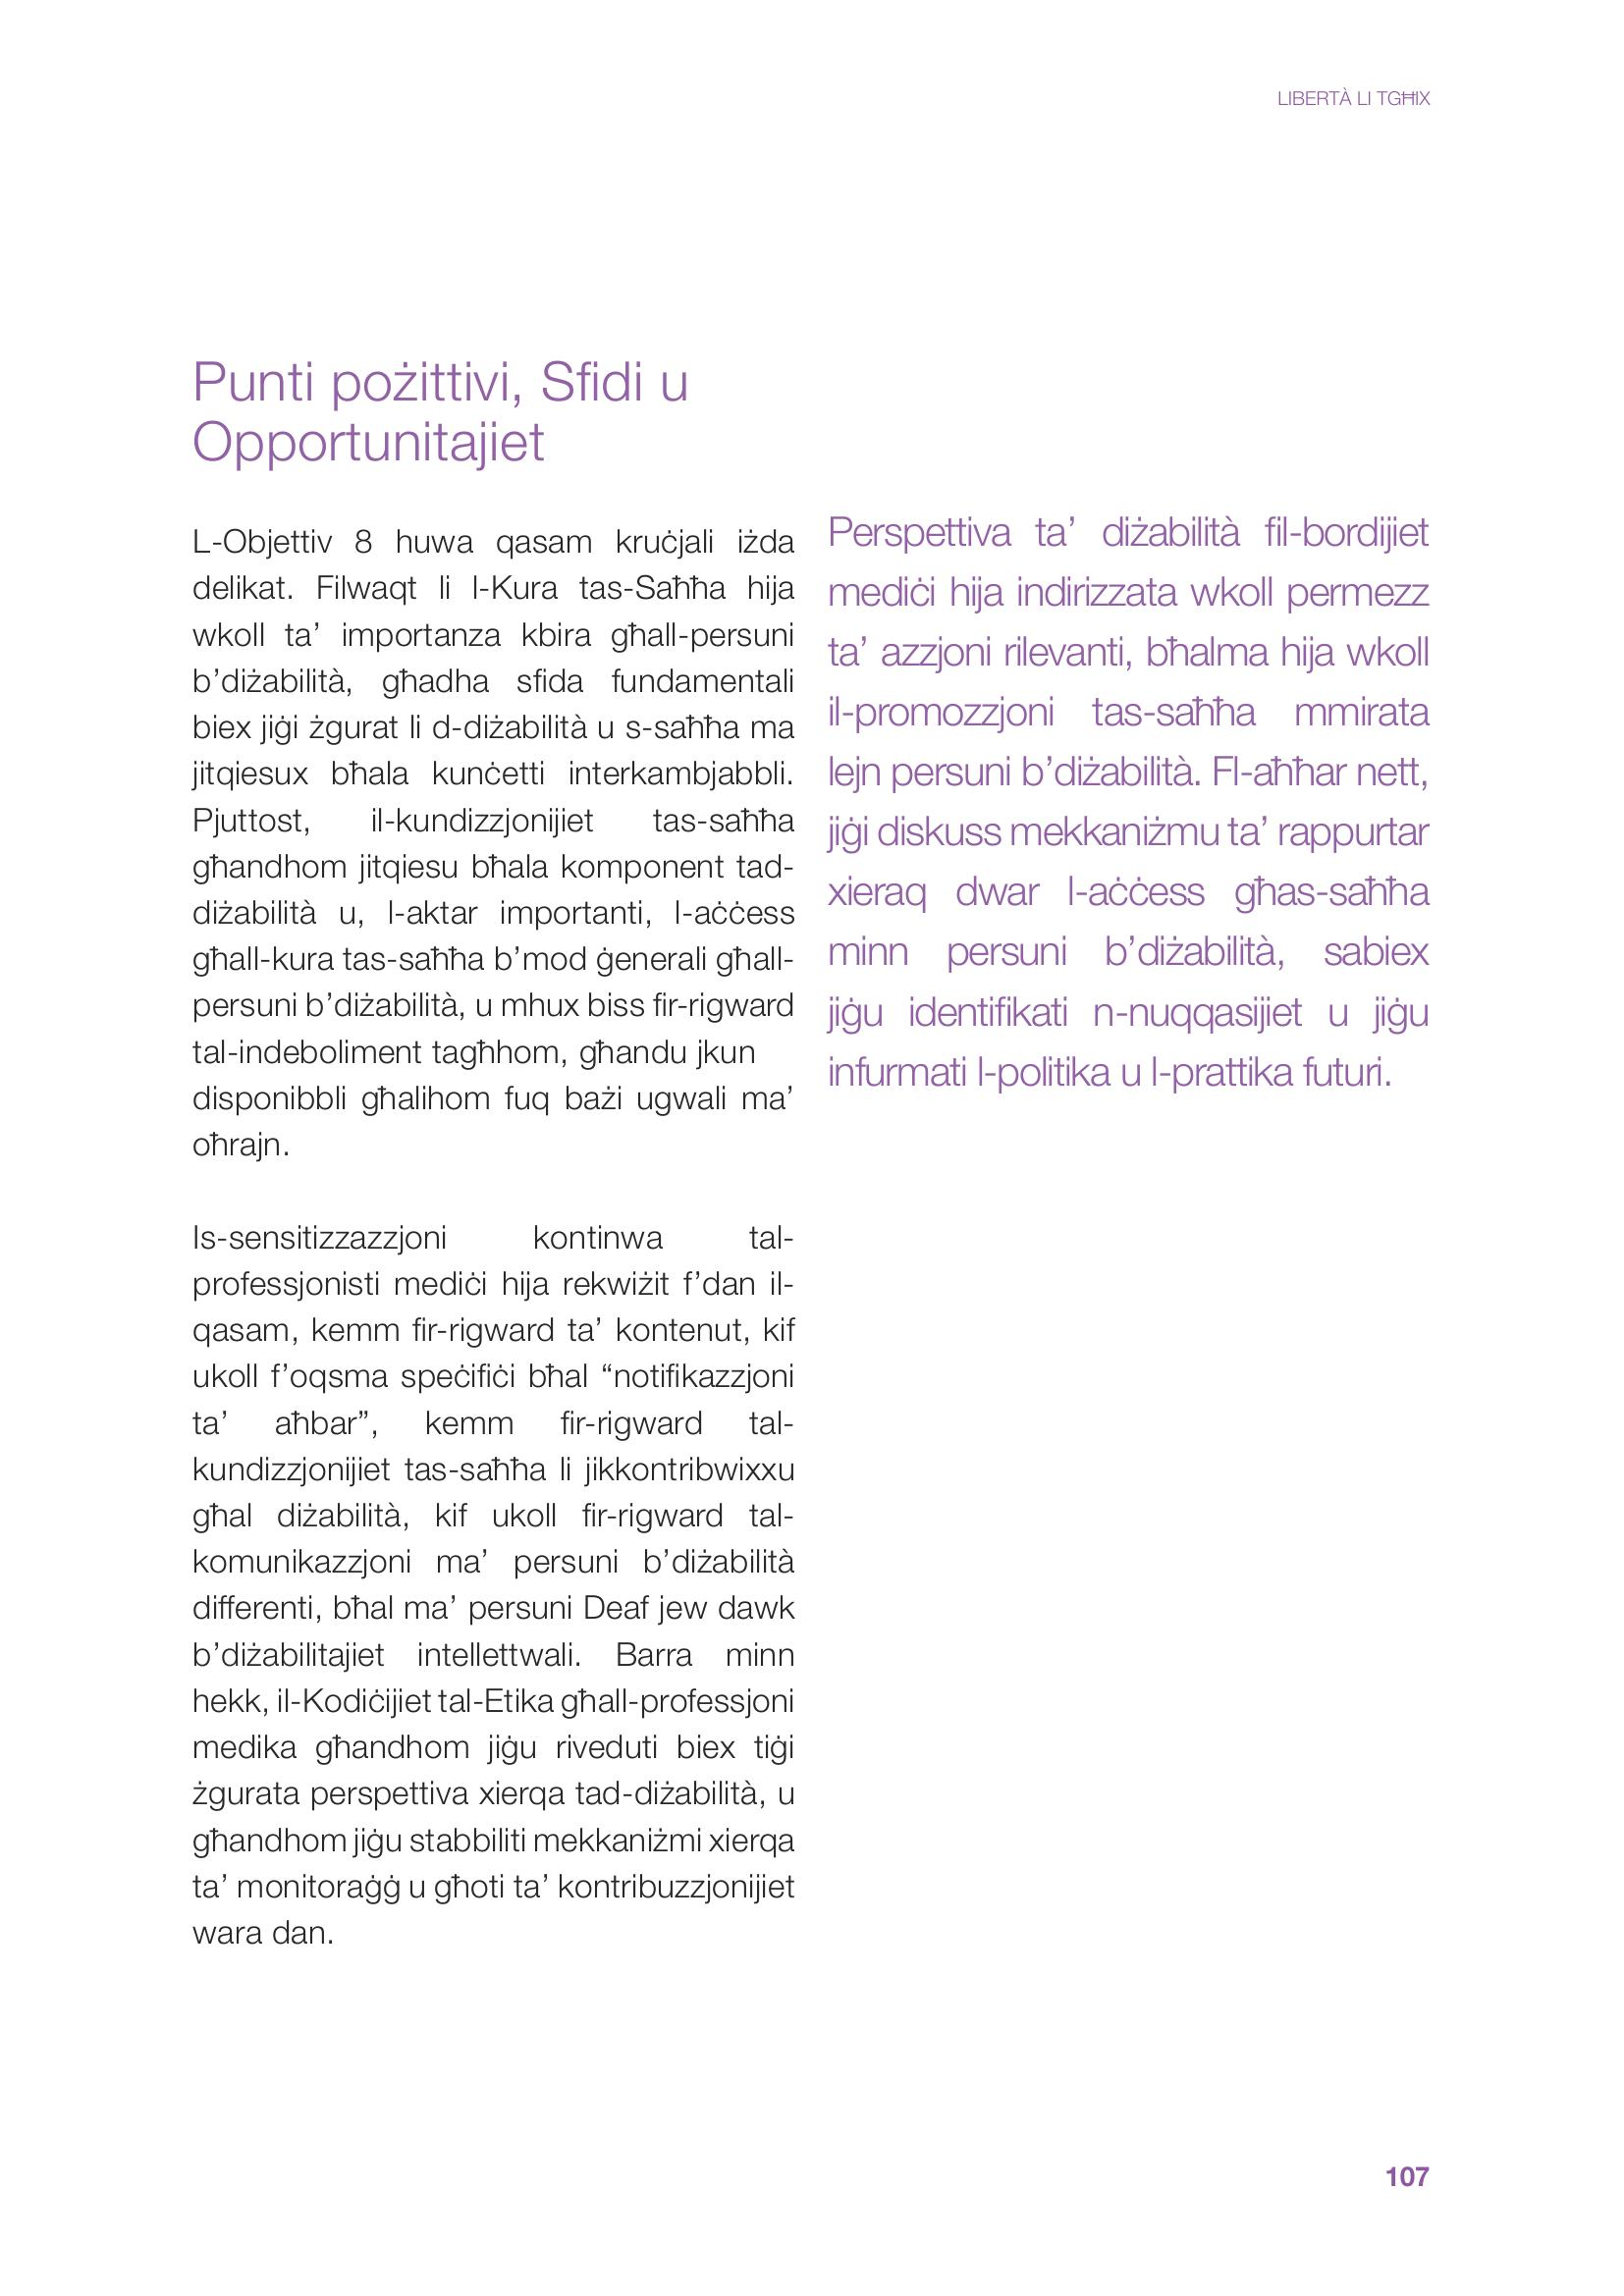text: (153, 336, 814, 1955), (801, 494, 1441, 1121)
